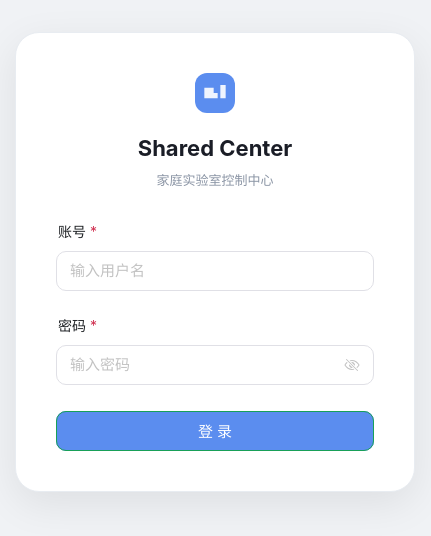
Login.vue › 空表单点击登录 → 提示填写账号密码,不发请求
This screenshot has width=431, height=536.
Click the button "登 录".
click(215, 431)  # box left=56, top=411, right=374, bottom=451
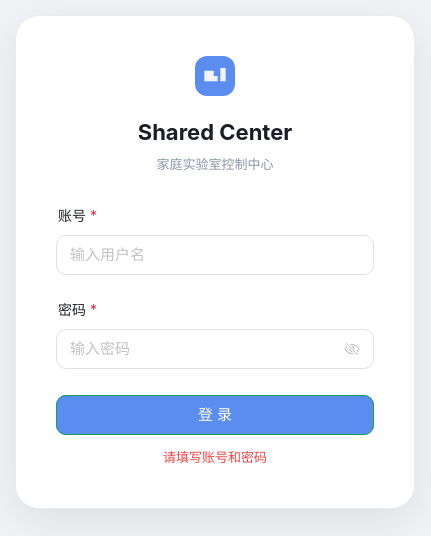
Check: the text "请填写账号和密码" is shown, box left=163, top=449, right=267, bottom=465
